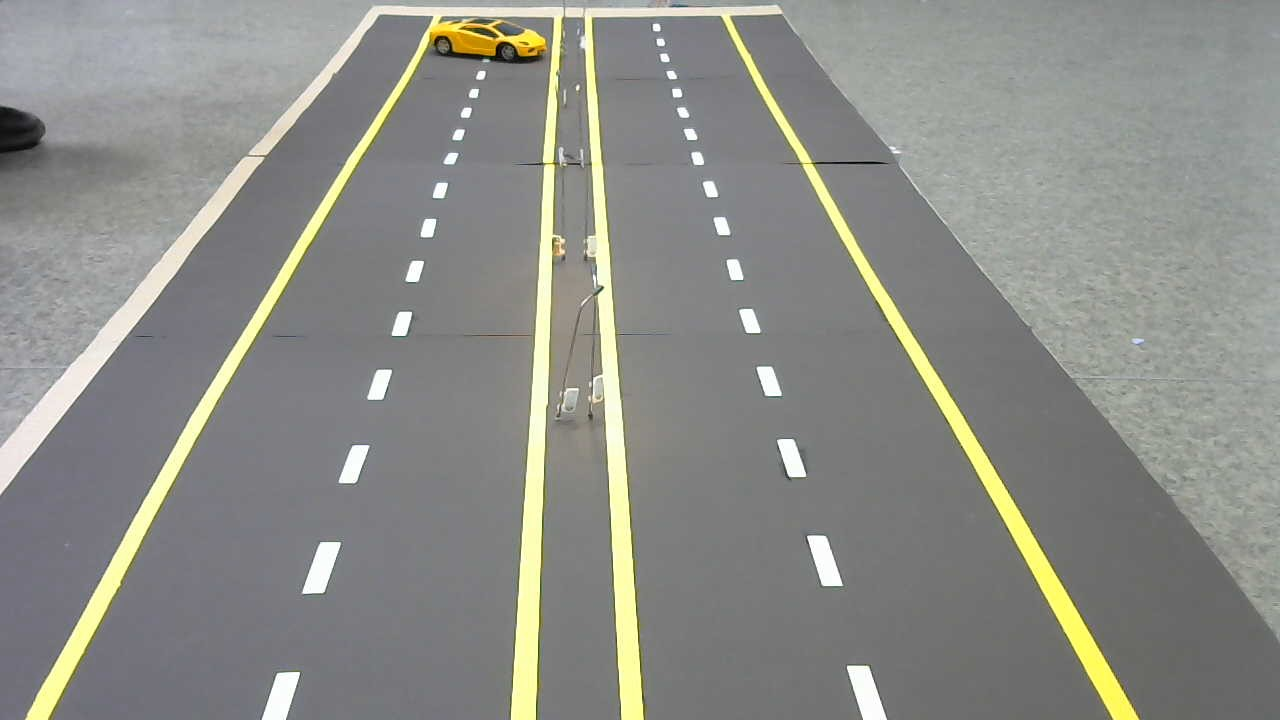overturn_car: (426, 14, 547, 64)
